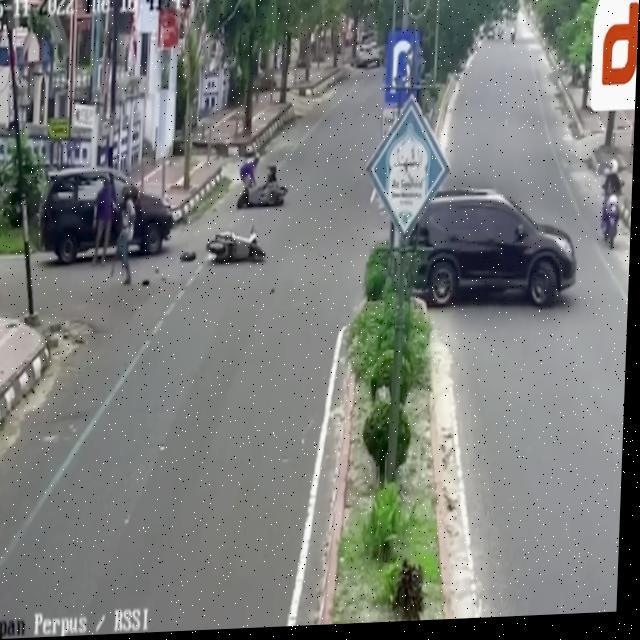multiple_accident: (28, 100, 303, 317)
normal: (380, 122, 617, 325)
